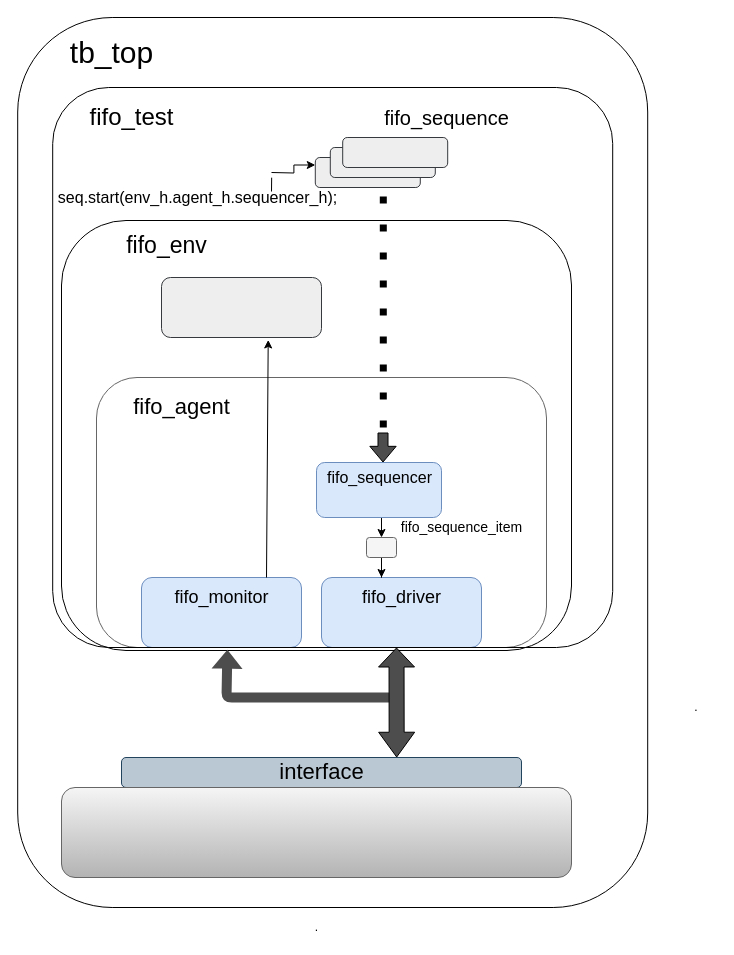
Some shapes in this 734 by 955 pixel diagram are drawn without their labels. Here are the shapes that lost their labels. From the top down, the centre of each, then its label:
pixel 241 307: fifo_coverage
pixel 316 832: FIFO (DUT)
